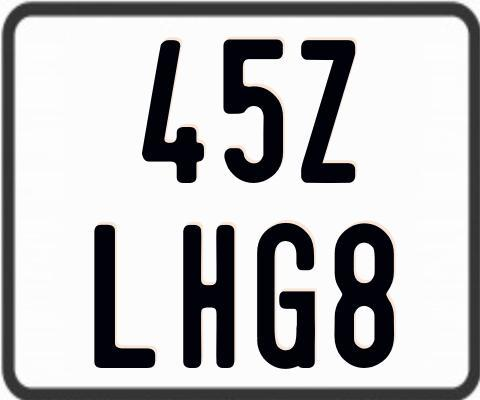4: (142, 40, 208, 185)
5: (220, 38, 284, 186)
8: (332, 221, 398, 367)
G: (254, 220, 314, 371)
H: (181, 222, 232, 370)
L: (93, 222, 155, 365)
Z: (298, 40, 357, 189)
